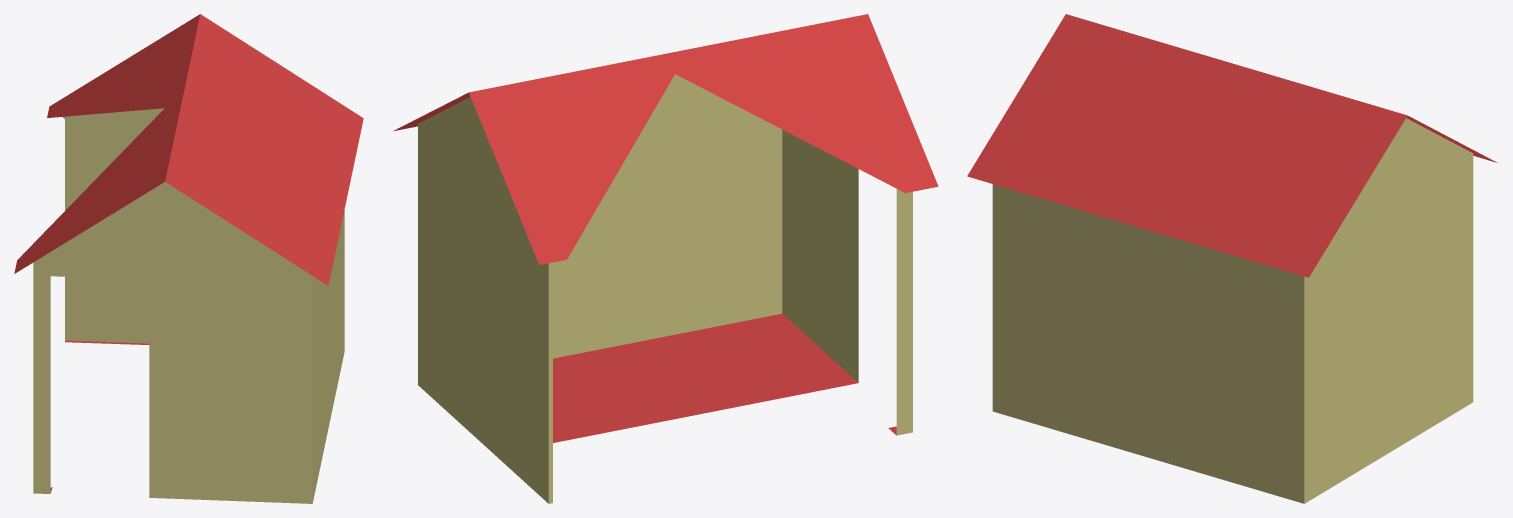
3 renders of one model, left to right at view 1: azimuth 30°, elevation 25°; view 2: azimuth 150°, elevation 25°; view 3: azimuth 270°, elevation 25°, orthographic. The views are drawn at different scales.
Bounding box in the file's own units: 13.92 × 14.5 × 10.22.
